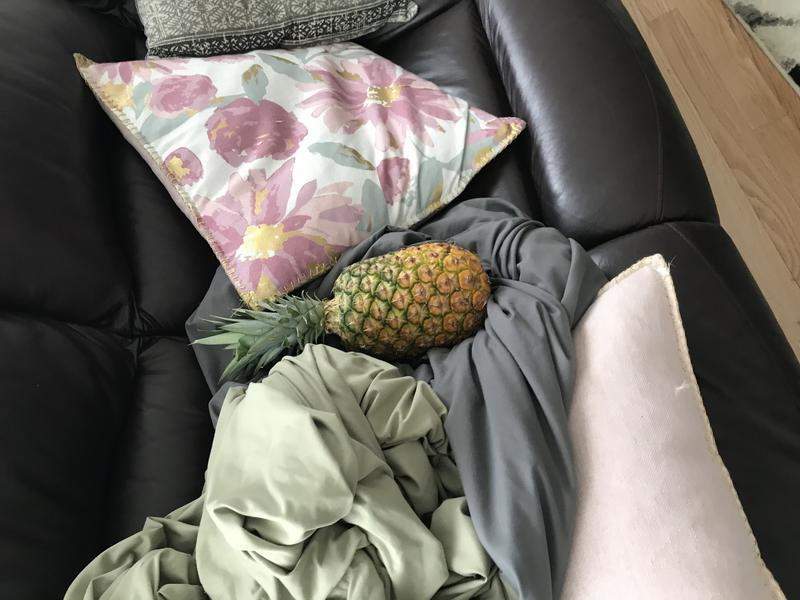pineapple: (207, 233, 496, 382)
